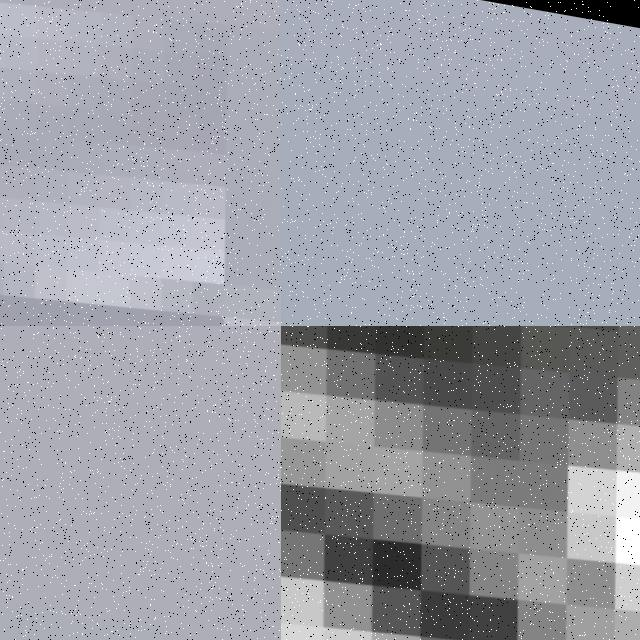0: (0, 0, 281, 326)
drone: (281, 326, 640, 640)
